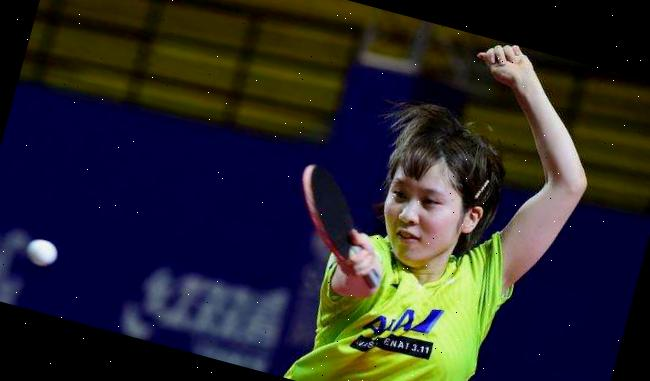ball: (18, 230, 64, 271)
